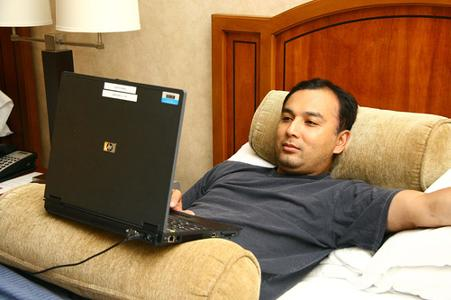person: (166, 79, 451, 300)
